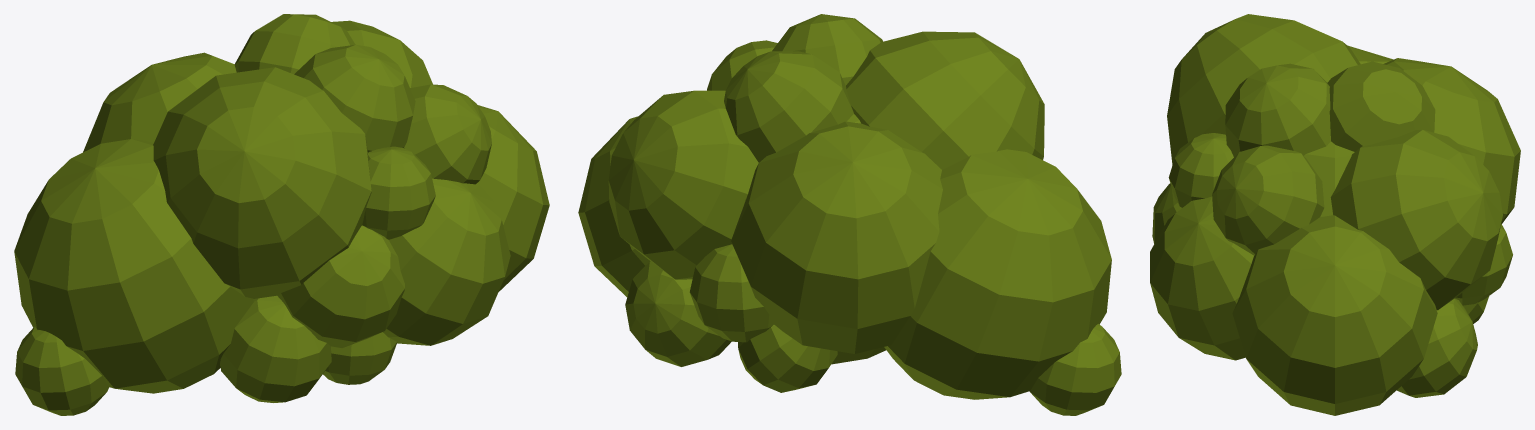
Rendered from bush1.dae.
3 views of the same model, side by side, from view 1: azimuth 30°, elevation 25°; view 2: azimuth 150°, elevation 25°; view 3: azimuth 270°, elevation 25° (orthographic). The views are drawn at different scales.
Parts seen in each view (by area): view 1: Sphere; view 2: Sphere; view 3: Sphere.
Boxes of the visible parts, bbox=[...] form: Sphere: bbox=[14, 14, 549, 415]; Sphere: bbox=[578, 14, 1121, 415]; Sphere: bbox=[1150, 14, 1520, 415].
Size of the model in its own units: 6.49 by 3.73 by 4.26.
